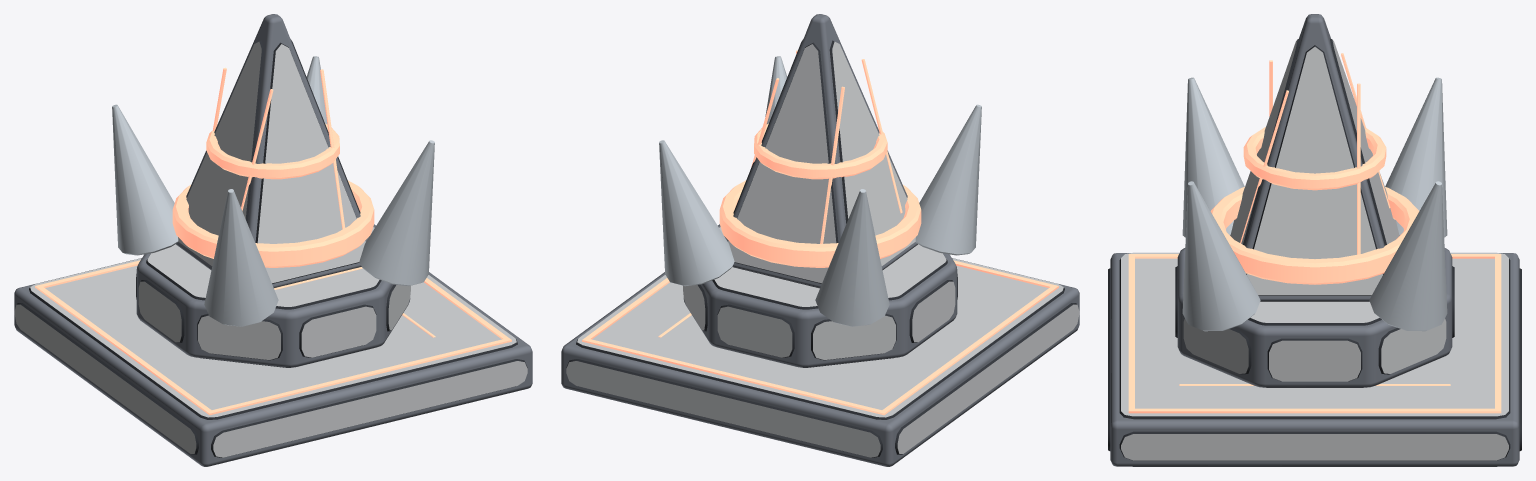
File: R4X_DamageBooster.fbx
3 renders of one model, left to right at view 1: azimuth 30°, elevation 25°; view 2: azimuth 150°, elevation 25°; view 3: azimuth 270°, elevation 25°, orthographic. The views are drawn at different scales.
Visible parts, largest first — view 1: R4X_DamageBooster_Body; view 2: R4X_DamageBooster_Body; view 3: R4X_DamageBooster_Body.
Boxes of the visible parts, x1,y1,x2,y2 form: R4X_DamageBooster_Body: (14,14,532,466); R4X_DamageBooster_Body: (561,14,1079,466); R4X_DamageBooster_Body: (1108,14,1521,466).
Bounding box in the file's own units: 0.52 × 0.512 × 0.52.
